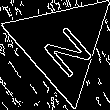N_NW: (31, 13, 93, 76)
